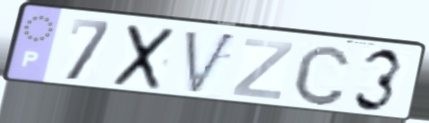3: (349, 47, 412, 115)
7: (65, 15, 113, 86)
C: (289, 42, 353, 108)
V: (182, 28, 240, 98)
X: (109, 22, 179, 93)
Z: (229, 36, 297, 102)
